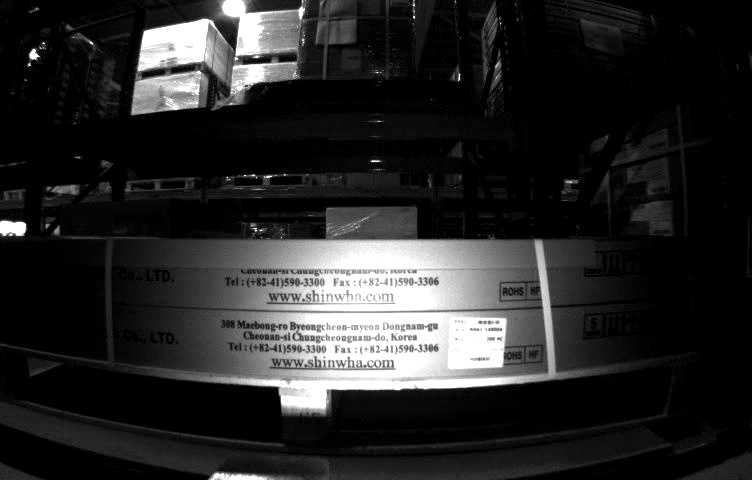True Barcode: (449, 314, 510, 370)
